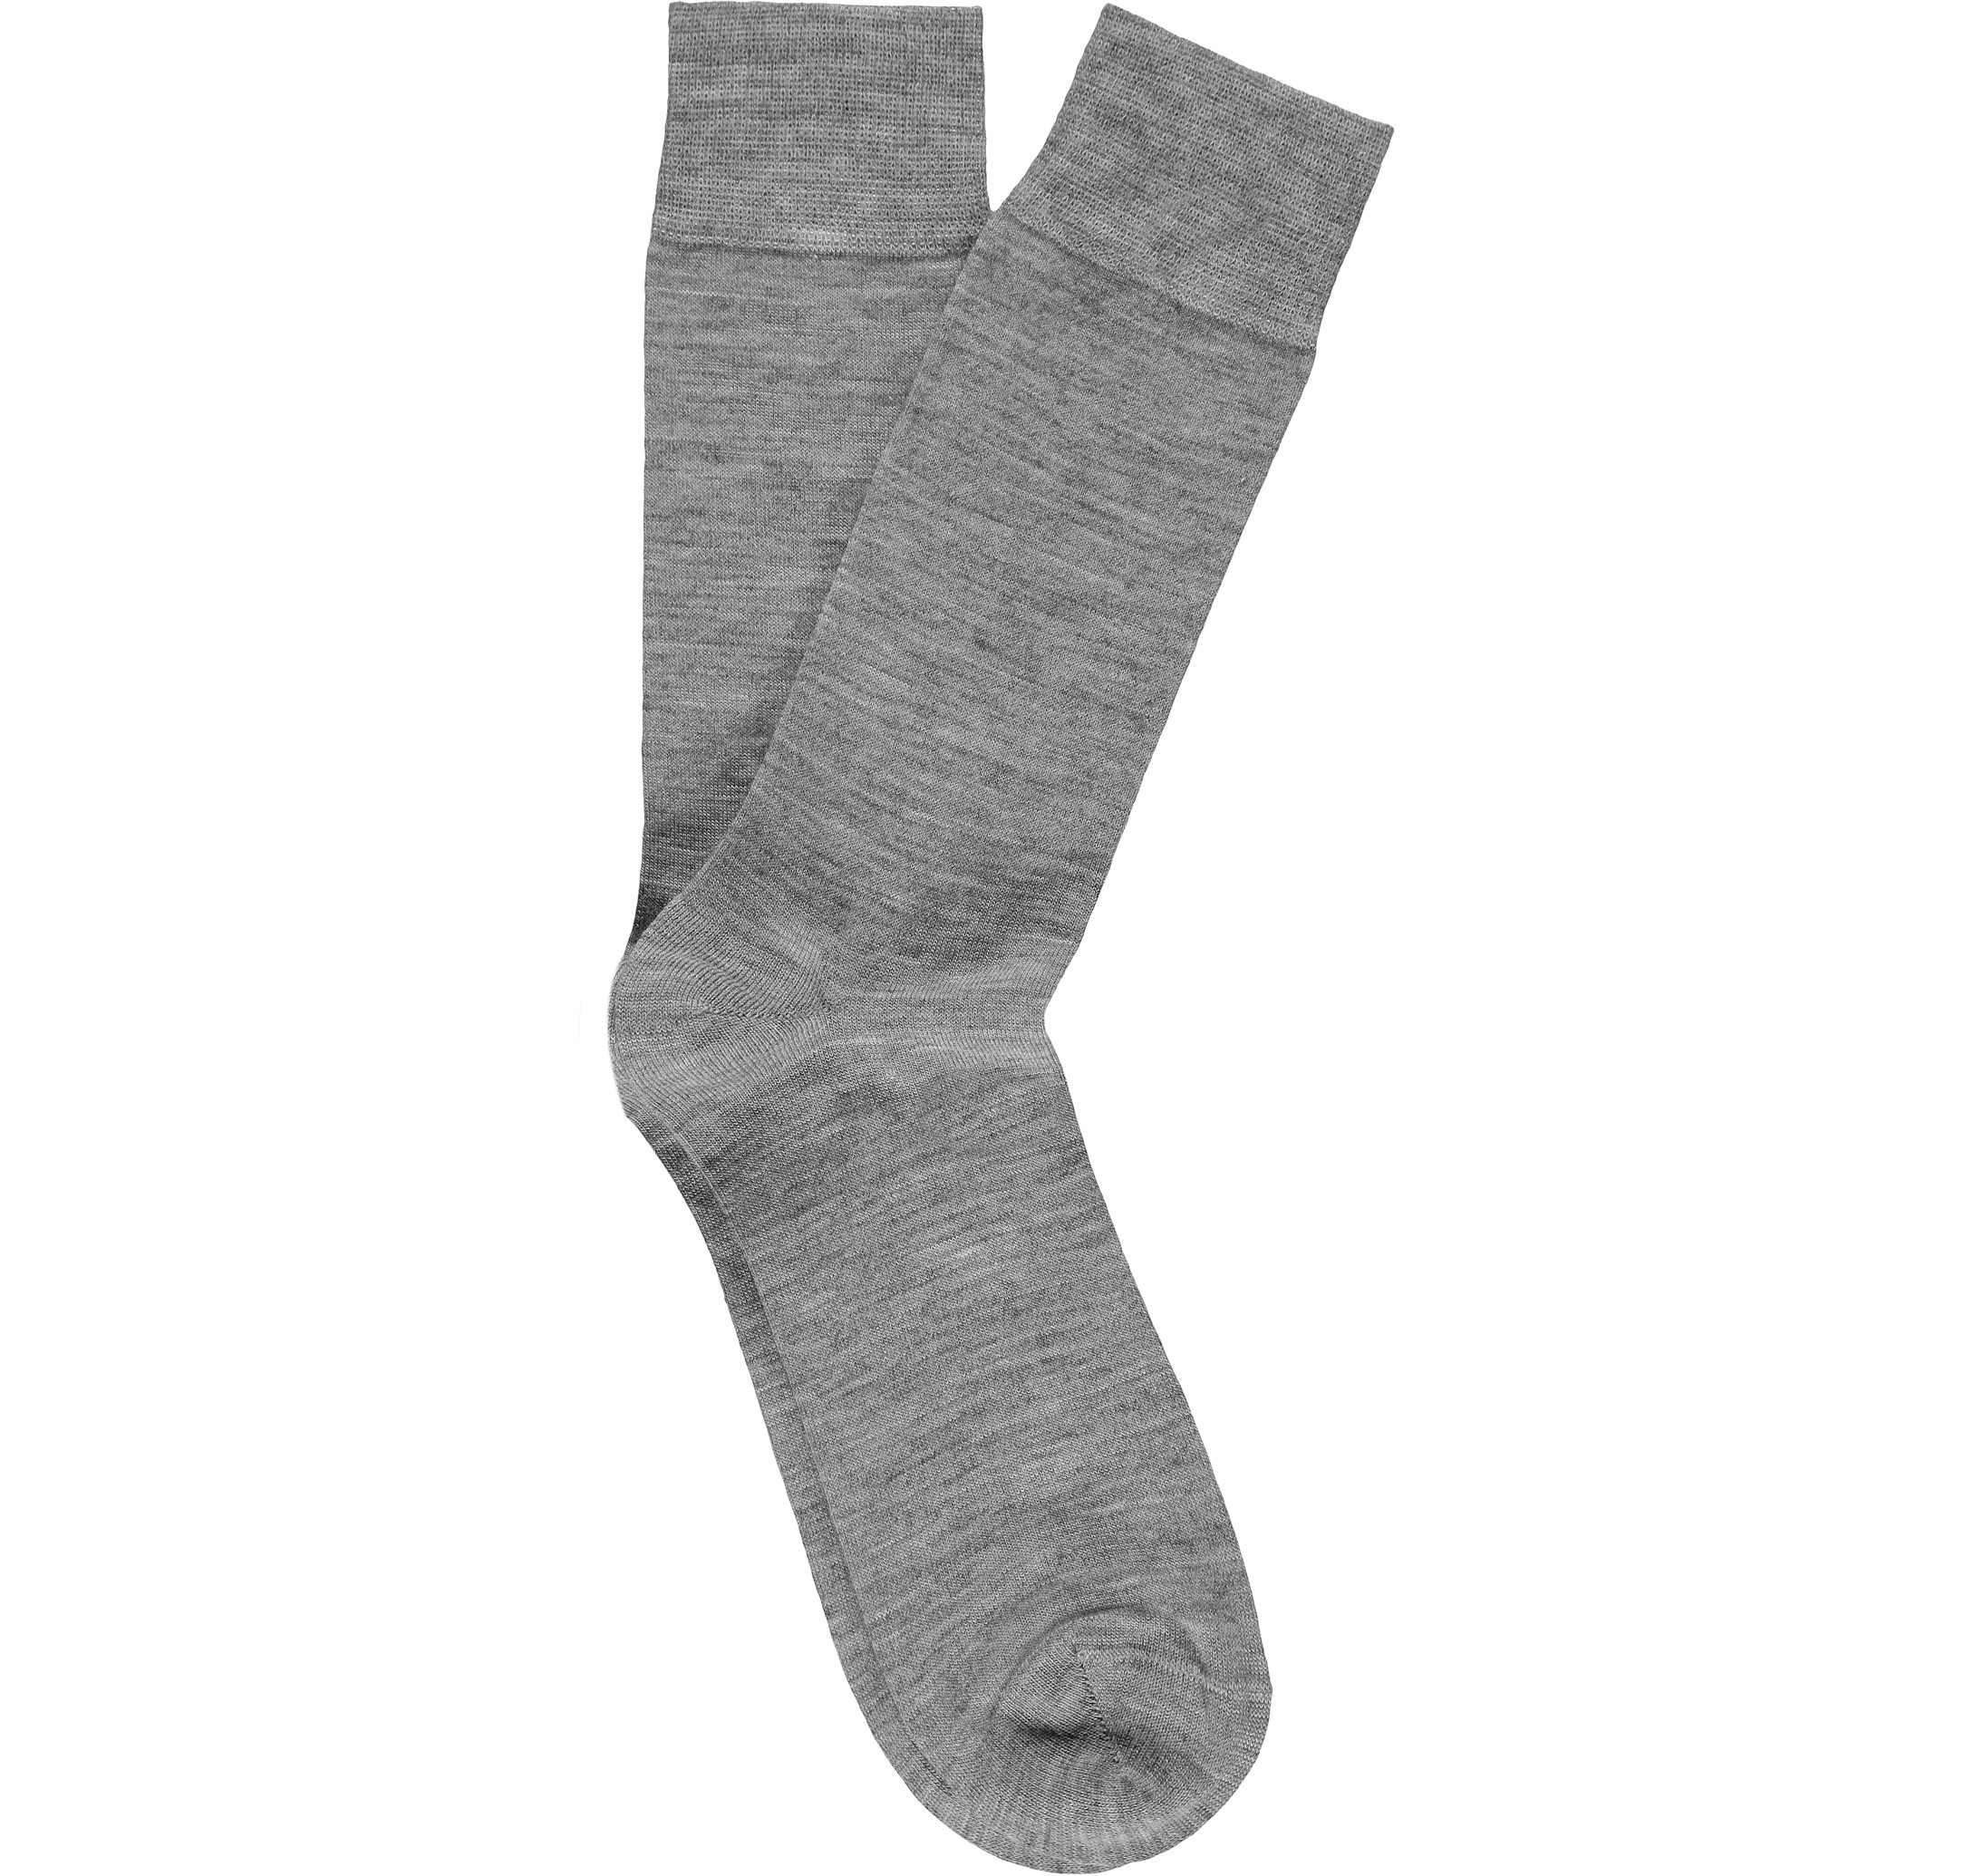flexible: (631, 9, 1403, 1871)
